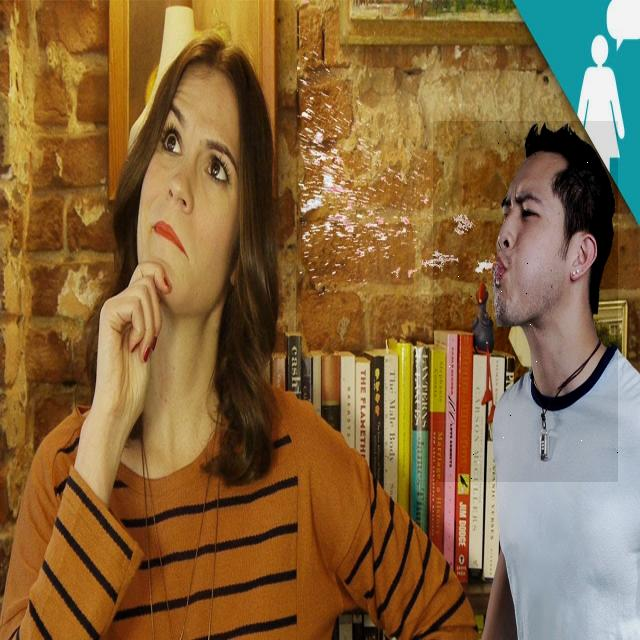Spitting: (433, 121, 618, 482)
